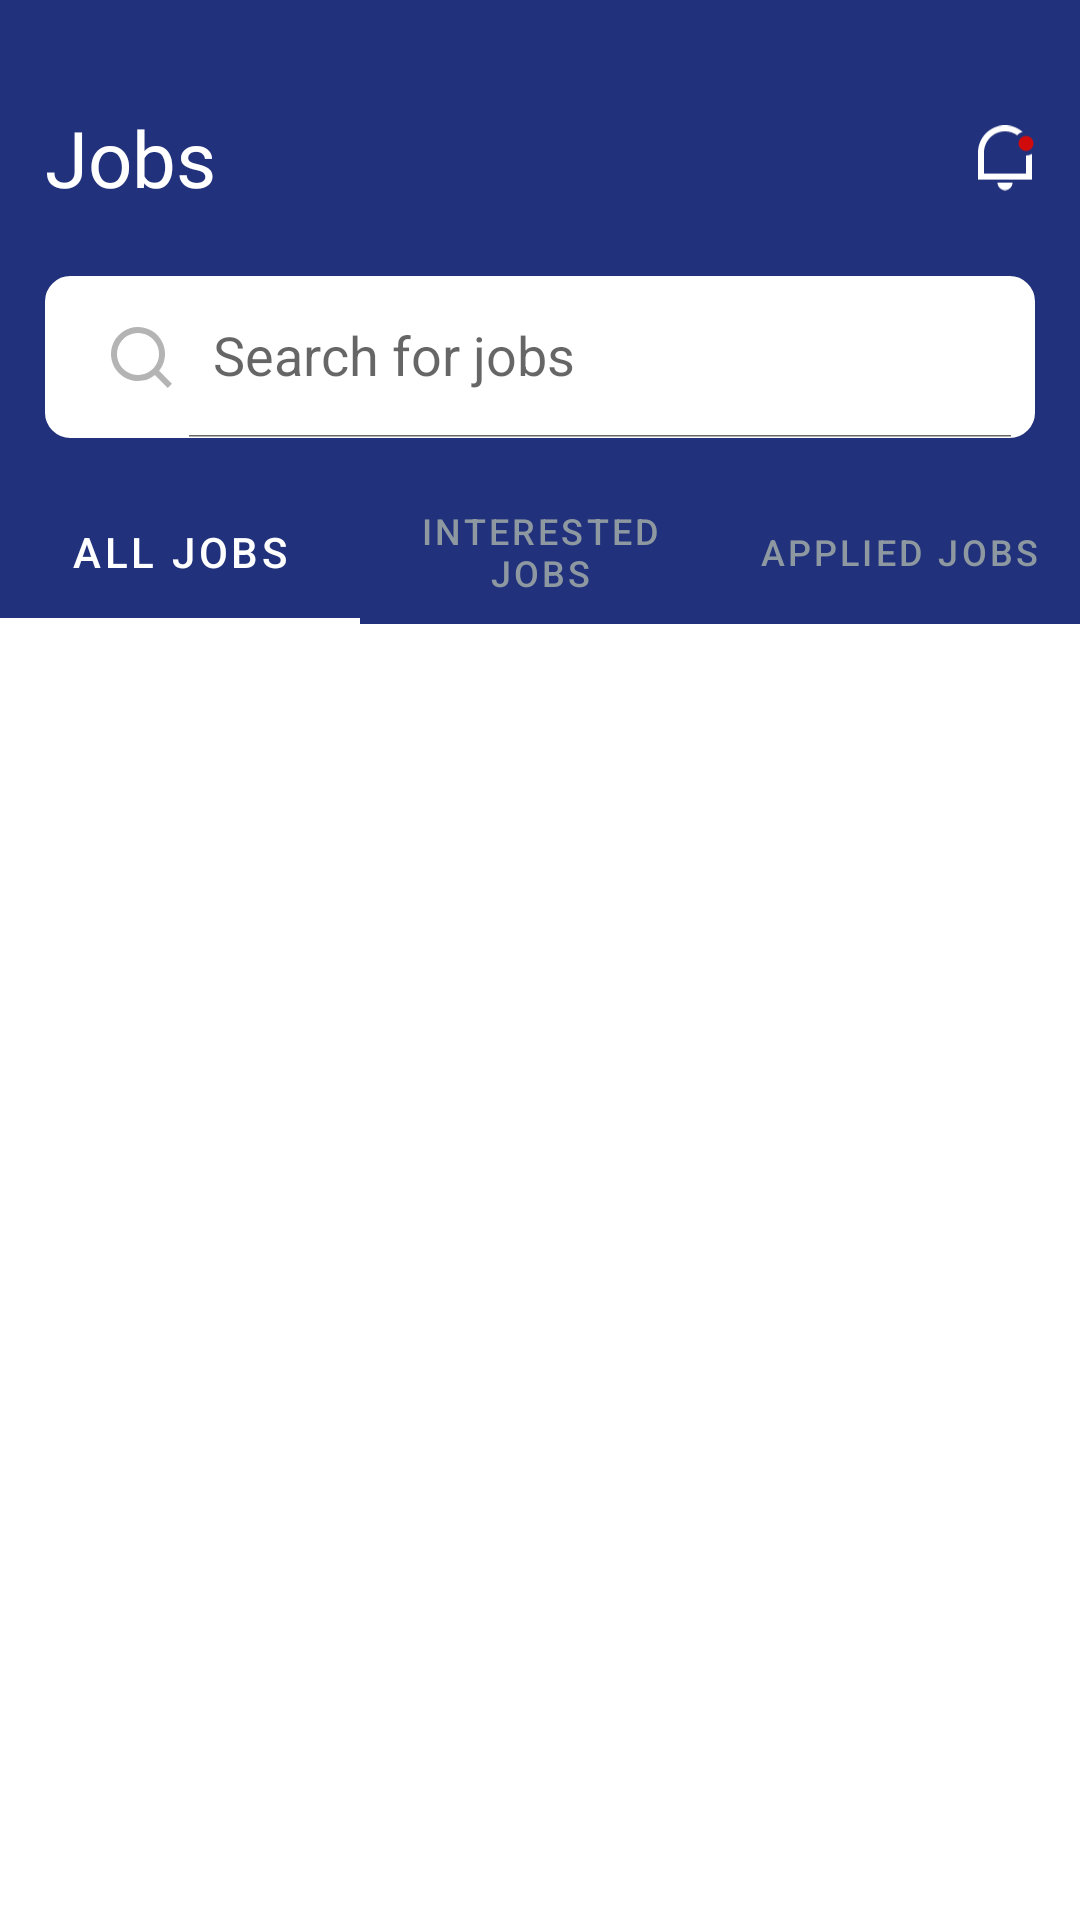

Where icons sit on this 1080*1920 app screen, as (left=x1, top=y1, right=x2, bottom=y2):
notification: (left=978, top=125, right=1034, bottom=191)
